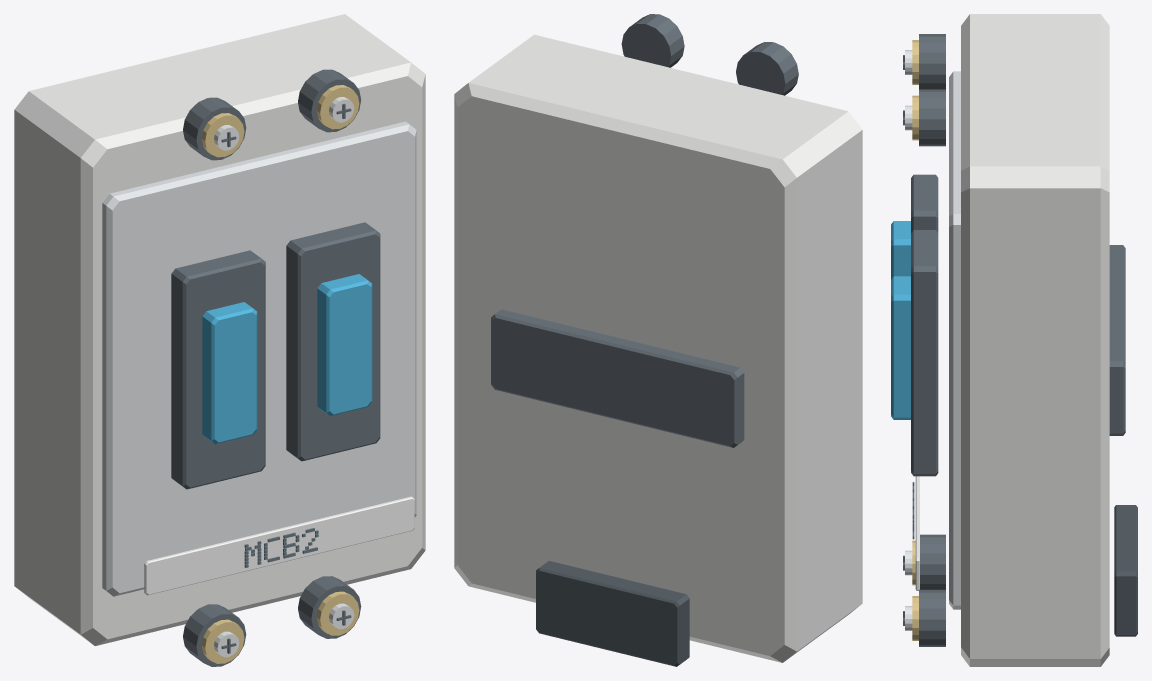
Rendered from mcb2P.glb.
The picture shows the model from 3 angles, left to right: view 1: azimuth 30°, elevation 25°; view 2: azimuth 150°, elevation 25°; view 3: azimuth 270°, elevation 25°; orthographic projection.
Parts seen in each view (by area): view 1: mcb2P-preview; view 2: mcb2P-preview; view 3: mcb2P-preview.
Part boxes in pixels (x1=…): mcb2P-preview: x1=14, y1=14, x2=425, y2=666; mcb2P-preview: x1=454, y1=14, x2=862, y2=666; mcb2P-preview: x1=891, y1=14, x2=1137, y2=666.
Bounding box in the file's own units: 2.17 × 3.36 × 1.36.
